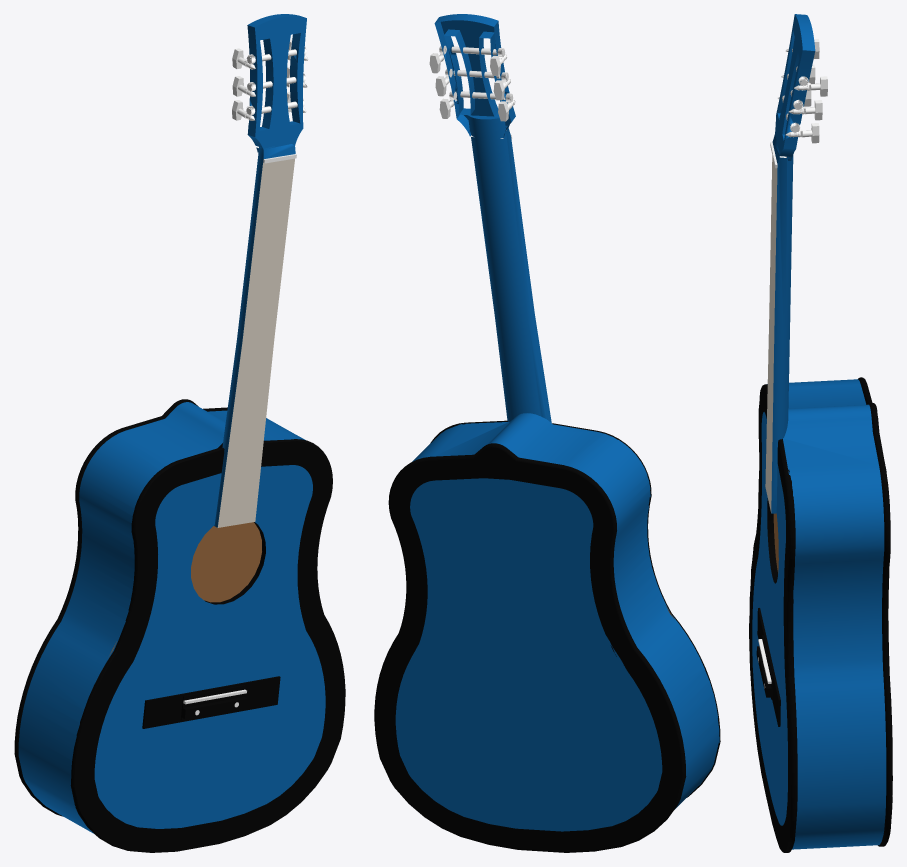
Rendered from Guitar2.fbx.
3 views of the same model, side by side, from view 1: azimuth 30°, elevation 25°; view 2: azimuth 150°, elevation 25°; view 3: azimuth 270°, elevation 25° (orthographic). The views are drawn at different scales.
Parts seen in each view (by area): view 1: Model; view 2: Model; view 3: Model.
Boxes of the visible parts, x1,y1,x2,y2 form: Model: [14, 14, 345, 852]; Model: [374, 14, 720, 852]; Model: [749, 14, 892, 852].
Size of the model in its own units: 13.97 by 35.12 by 5.47.
